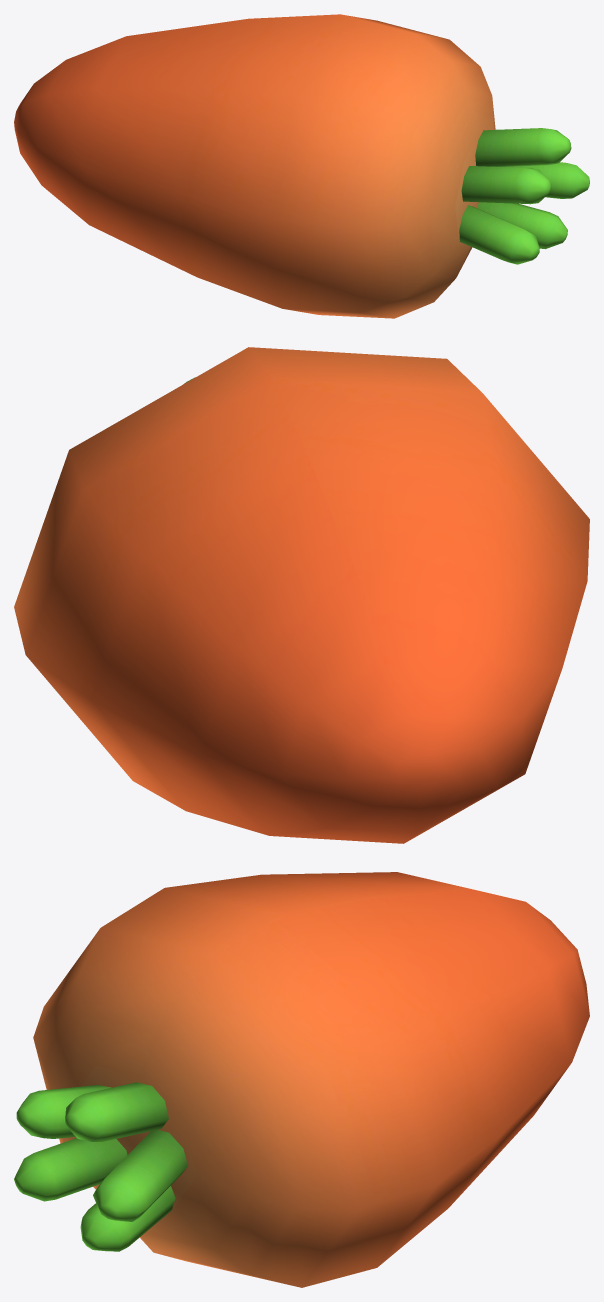
File: carrot.fbx
3 views of the same model, one above another, from view 1: azimuth 30°, elevation 25°; view 2: azimuth 150°, elevation 25°; view 3: azimuth 270°, elevation 25° (orthographic). The views are drawn at different scales.
Visible parts, largest first — view 1: carrot; view 2: carrot; view 3: carrot.
Part boxes in pixels (x1=…): carrot: x1=14, y1=14, x2=589, y2=318; carrot: x1=14, y1=347, x2=589, y2=843; carrot: x1=14, y1=872, x2=589, y2=1287.
Bounding box in the file's own units: 0.266 × 0.1734 × 0.2629.
